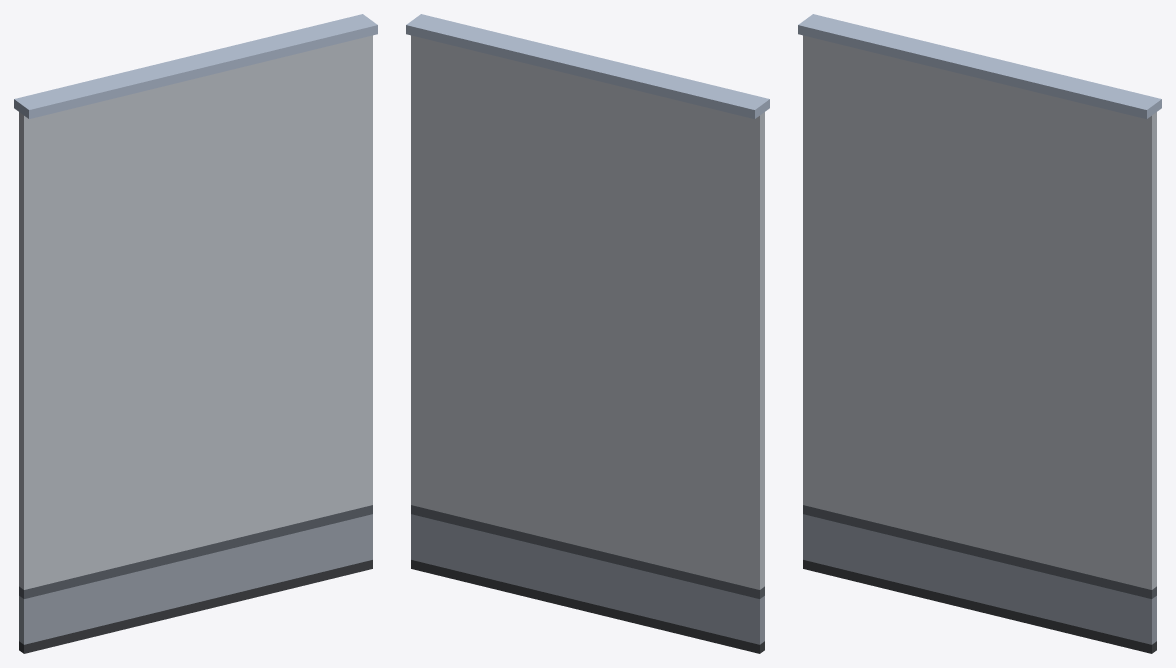
File: wall-elevator.obj
3 views of the same model, side by side, from view 1: azimuth 30°, elevation 25°; view 2: azimuth 150°, elevation 25°; view 3: azimuth 330°, elevation 25° (orthographic).
Bounding box in the file's own units: 4 × 6 × 0.3.
1 material, 1 textured.
